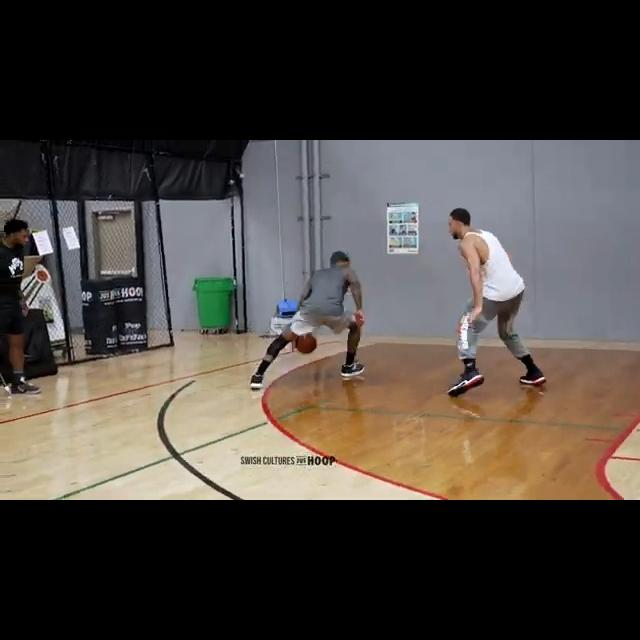basketball: (296, 333, 317, 354)
